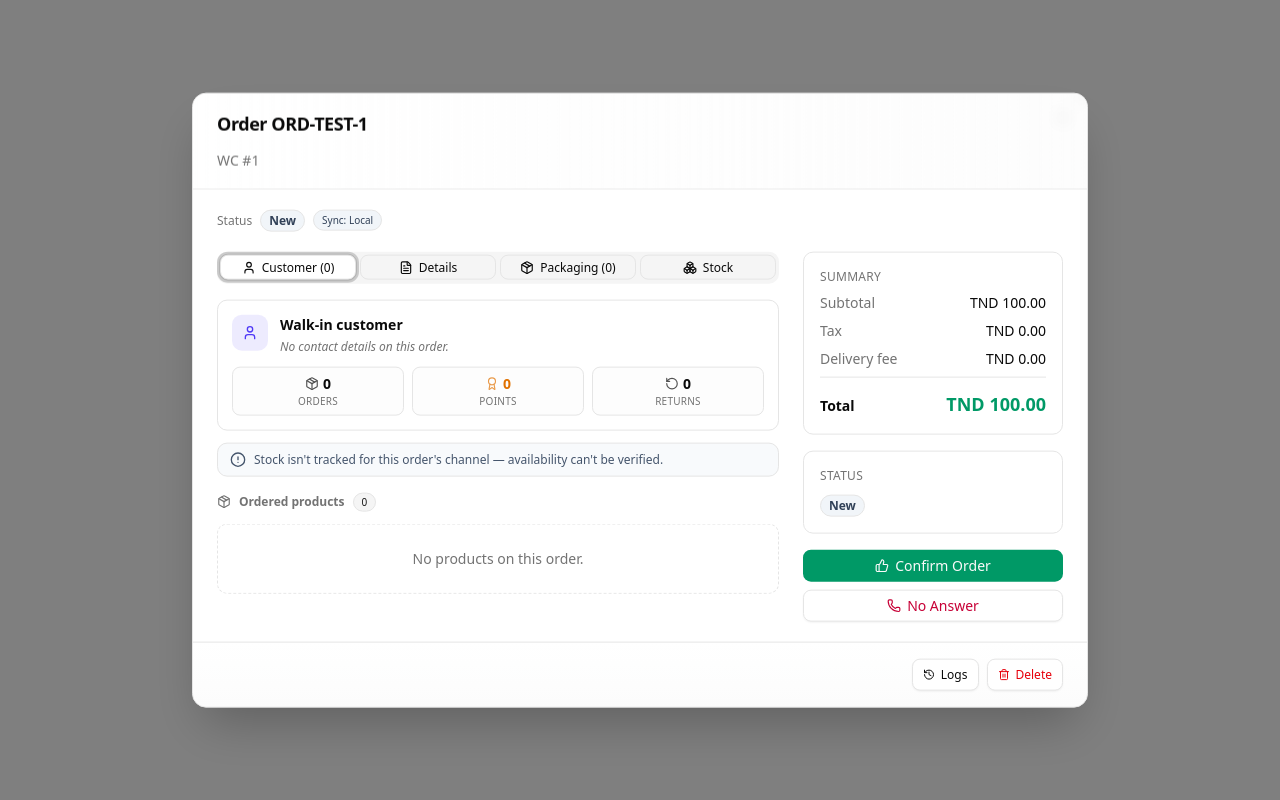
Test: OrderDetailDialog action loading › shows a spinner only on Delete when Delete is clicked
This screenshot has width=1280, height=800.
Click the button "Delete". click: (1025, 674)
box: [986,658,1063,690]
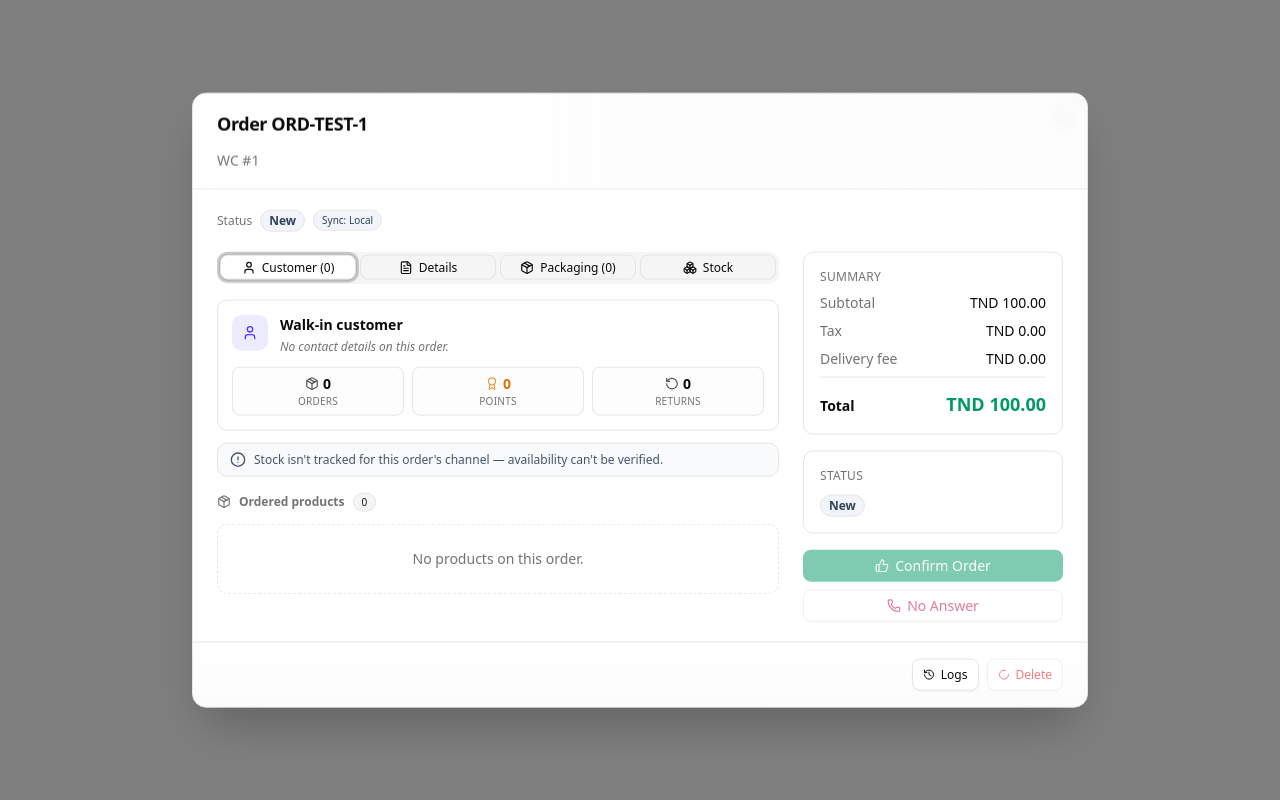
Result: the button "Delete" is disabled at [986,658,1063,690]
Result: the icon with class "animate-spin" is shown at [998,668,1010,680]
Result: the button "Confirm Order" is disabled at [803,549,1063,581]
